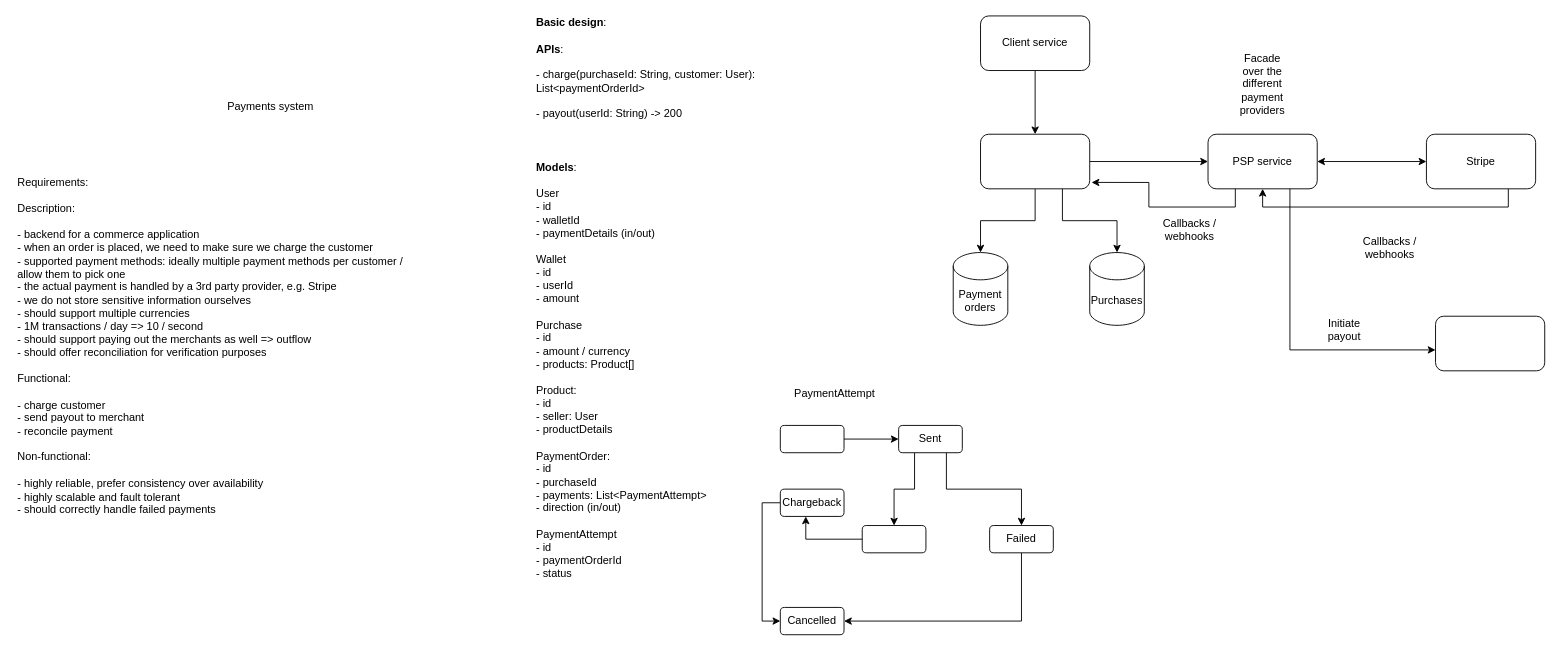
The diagram is 1561 pixels wide and 651 high, and some of its shapes have lost their labels. The shapes that lost their labels are listed below. From the top down, each one's centre as x and y in pixels, then its label:
the point at 1035,161: Payment service
the point at 1490,343: Payout provider
the point at 811,439: Created
the point at 893,539: Succeeded
